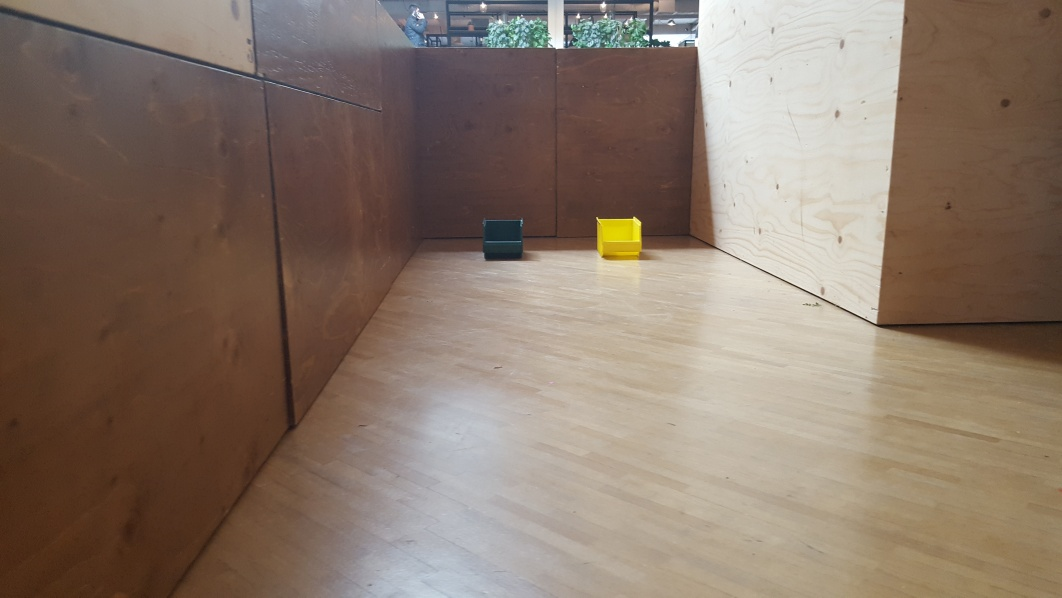tray: (588, 213, 648, 260), (479, 215, 530, 263)
